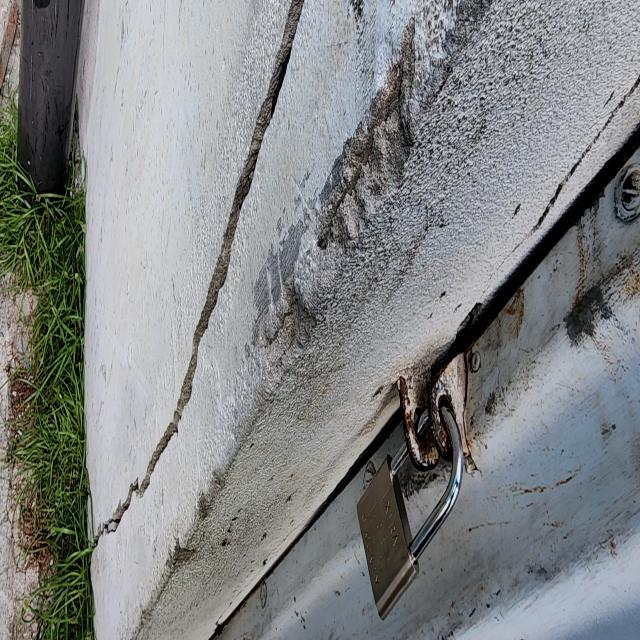SurfaceCrack: (219, 0, 640, 632), (89, 0, 343, 639)
